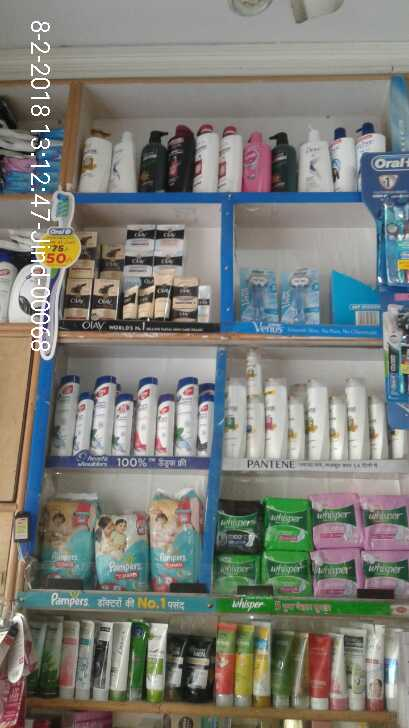venus: (241, 266, 280, 322), (281, 266, 318, 322)
